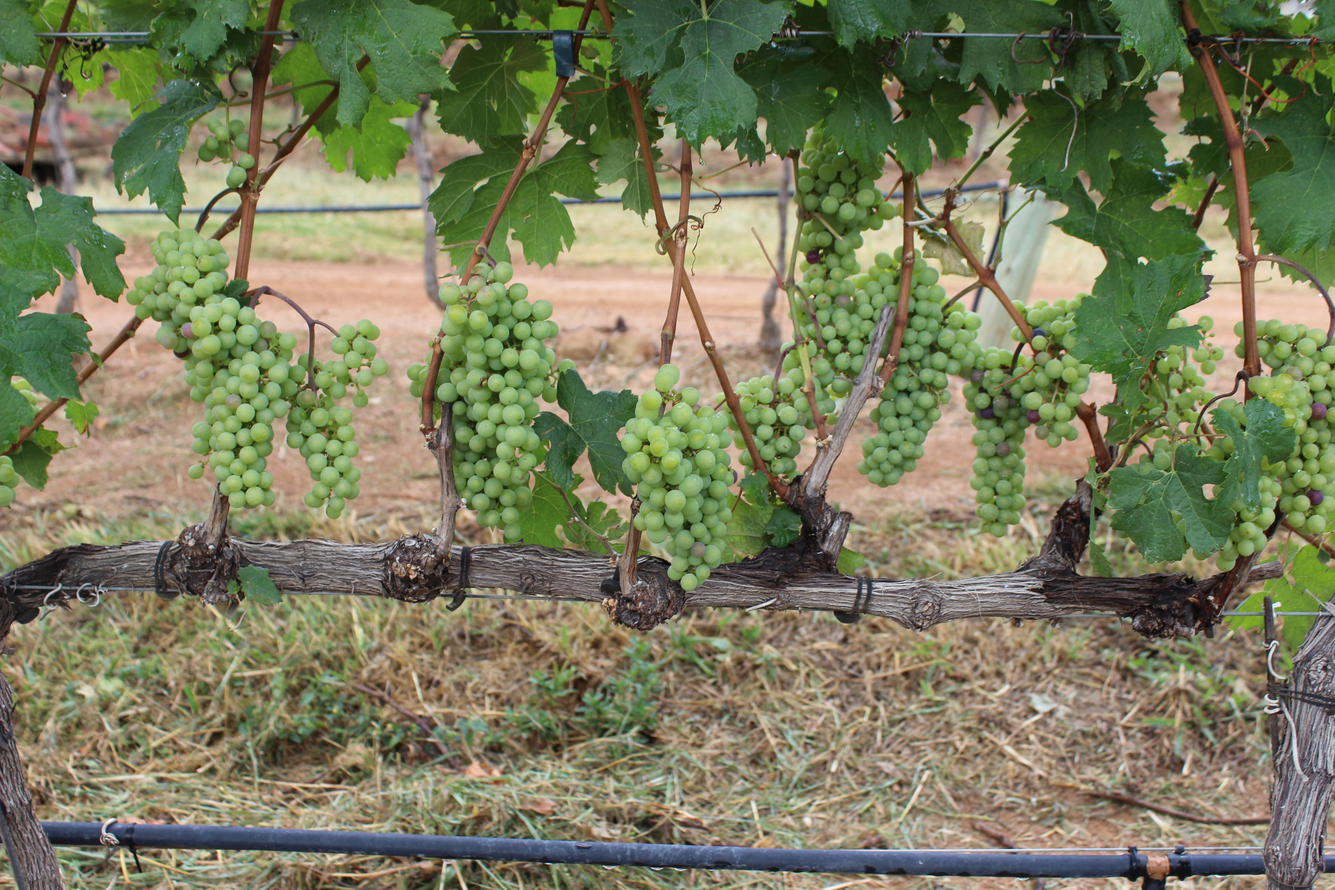leaf: (612, 0, 786, 144), (289, 0, 457, 125), (1072, 256, 1204, 412), (0, 165, 125, 300), (1009, 90, 1165, 195), (112, 80, 220, 223), (1054, 158, 1204, 260), (1251, 75, 1335, 254), (1109, 444, 1235, 562), (534, 369, 636, 494), (932, 0, 1064, 94), (434, 38, 547, 143), (1237, 545, 1335, 653), (738, 46, 831, 157), (1212, 398, 1296, 511), (428, 138, 523, 231), (893, 79, 982, 174), (825, 45, 894, 163), (323, 96, 416, 182), (0, 312, 91, 399), (1110, 0, 1191, 77), (596, 137, 652, 219), (180, 0, 250, 60), (827, 0, 913, 47), (519, 473, 572, 549), (108, 47, 161, 118), (11, 427, 65, 490), (0, 0, 41, 66), (237, 564, 281, 605), (763, 507, 801, 546), (64, 399, 100, 434), (1227, 614, 1264, 629), (1282, 79, 1301, 95), (570, 476, 582, 490), (1024, 123, 1032, 129), (1026, 101, 1030, 109), (899, 124, 903, 129), (1021, 129, 1023, 132), (1276, 664, 1278, 666), (1100, 62, 1101, 65), (442, 231, 443, 233), (132, 124, 133, 126), (20, 396, 21, 397), (1030, 112, 1031, 113)
